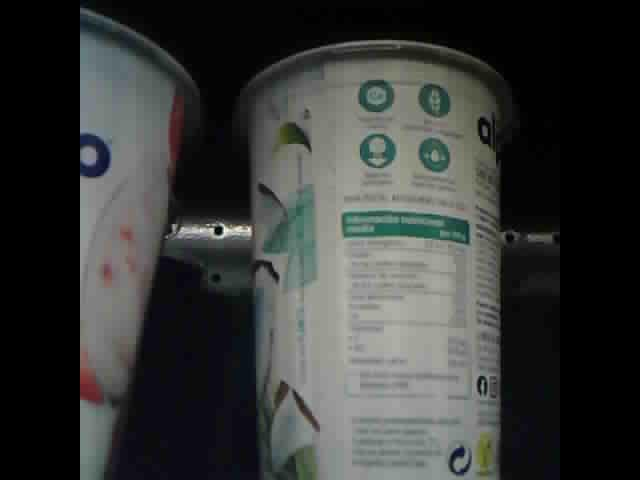alpro: (233, 40, 514, 480), (79, 4, 197, 480)
